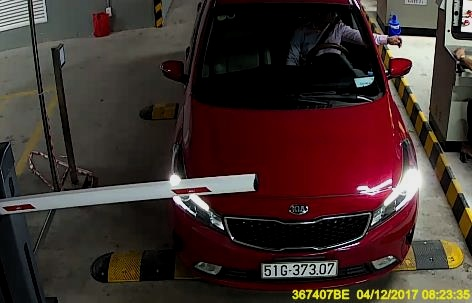plate: (260, 254, 338, 278)
